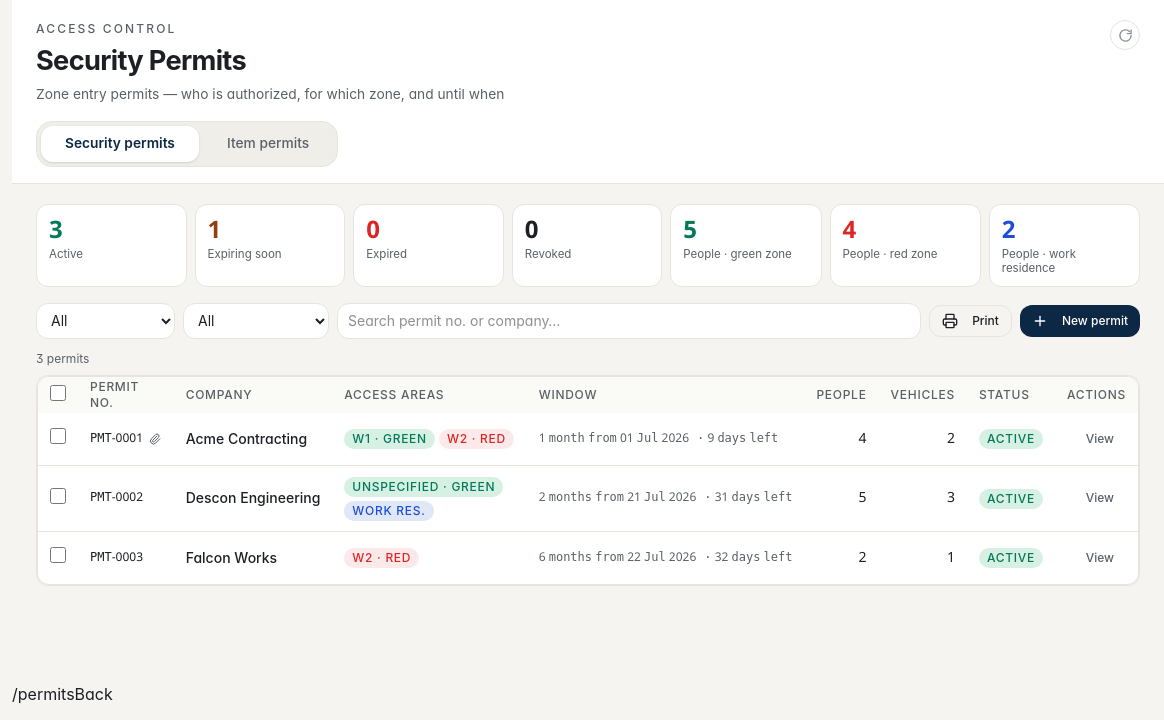
PermitsPage › zone tiles bind to ?zone=
expect the text "Acme Contracting" is shown: met, box [174, 412, 332, 465]
Step 1. Click the button "2 People · work residence" → x=1064, y=245, box [989, 204, 1140, 286]
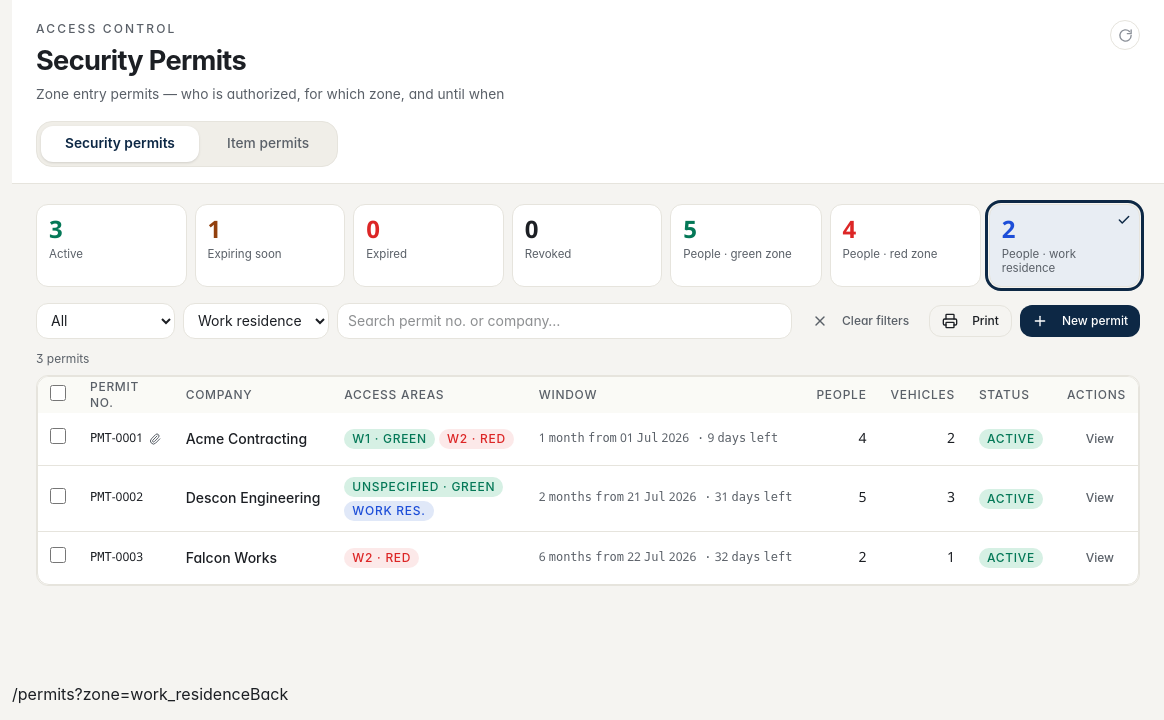
expect the text with test id "location" shows "zone=work_residence": met, box [12, 684, 250, 704]
